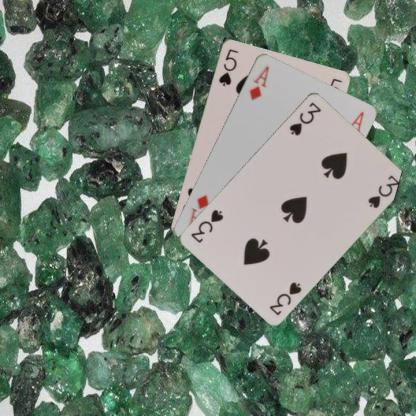3s: (266, 278, 304, 316), (286, 99, 322, 137)
5s: (216, 46, 239, 87)
Ad: (246, 63, 271, 101)
